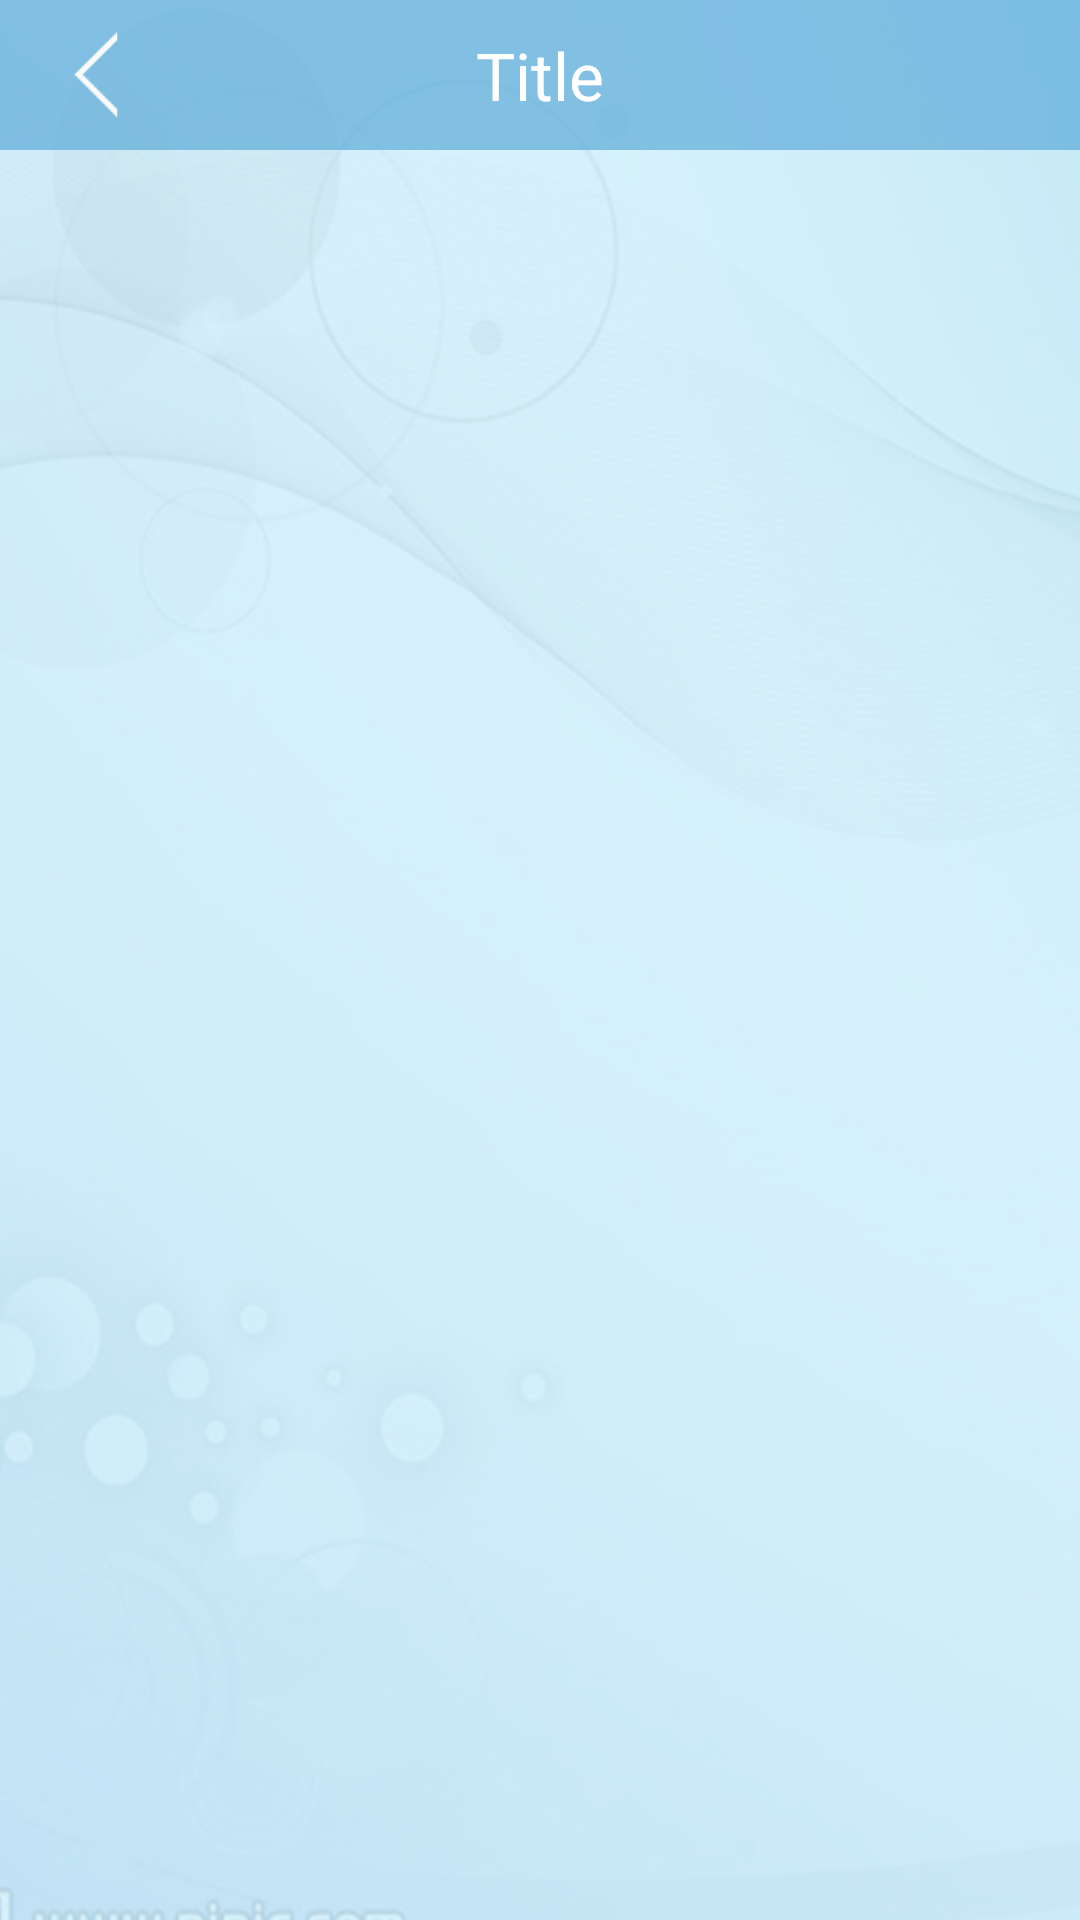

Point at icon controls on the screen. Image size 1080×1920, points as [x,y].
back: [96,75]
